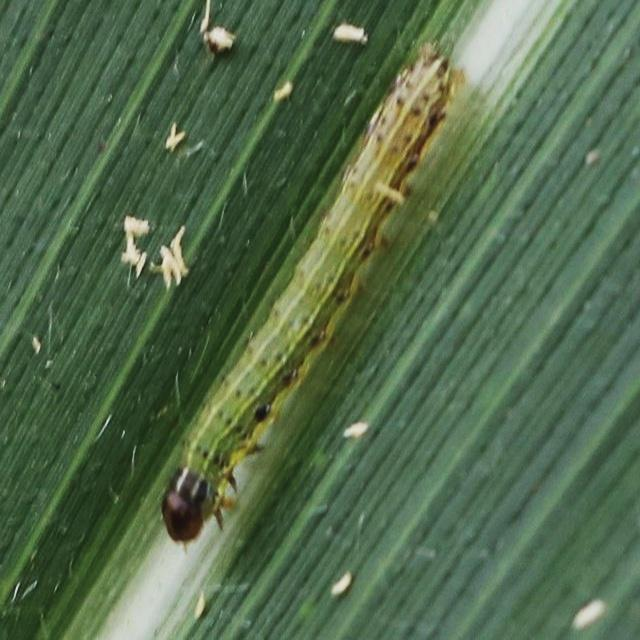gusano_cogollero: (167, 33, 455, 540)
